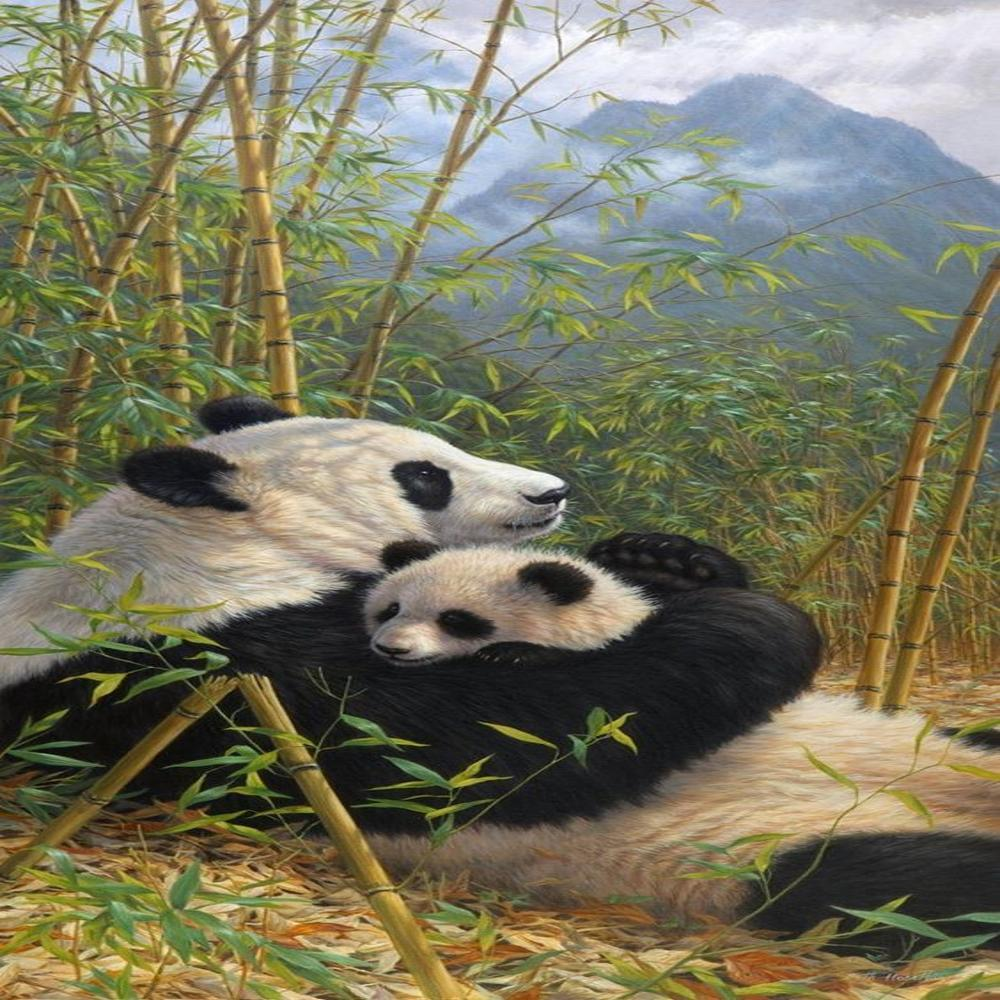panda: (0, 386, 1000, 965)
